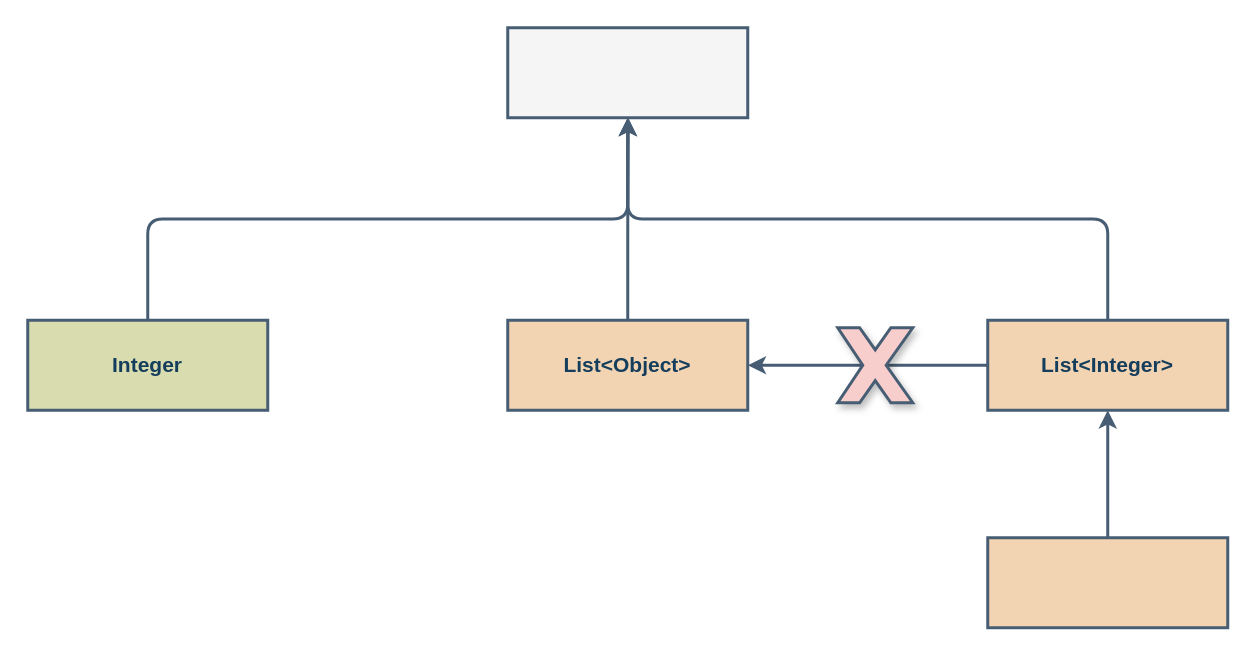
Some shapes in this 1254 by 654 pixel diagram are drawn without their labels. The centre of each missing label's shape, as x and y in pixels:
"ArrayList<Integer>" goes at (x=1107, y=582).
"Object" goes at (x=627, y=72).
